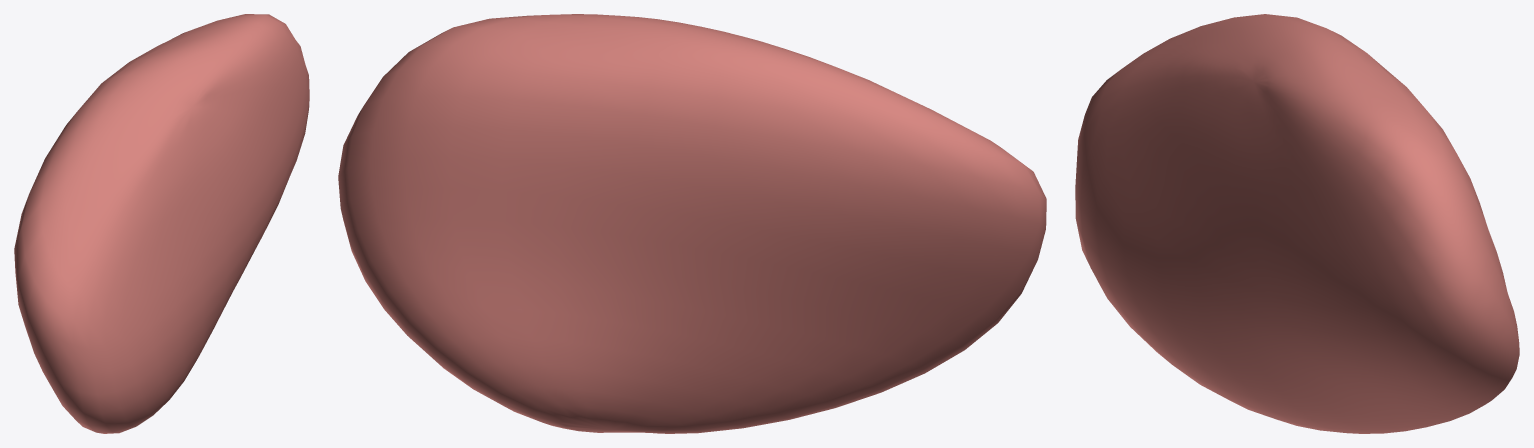
The picture shows the model from 3 angles, left to right: view 1: azimuth 30°, elevation 25°; view 2: azimuth 150°, elevation 25°; view 3: azimuth 270°, elevation 25°; orthographic projection. The views are drawn at different scales.
Parts seen in each view (by area): view 1: ZA_c828ceb58e5fa388; view 2: ZA_c828ceb58e5fa388; view 3: ZA_c828ceb58e5fa388.
Part boxes in pixels (x1,y1,x2,y2): ZA_c828ceb58e5fa388: (14,14,309,433); ZA_c828ceb58e5fa388: (338,14,1046,433); ZA_c828ceb58e5fa388: (1075,14,1519,433).
Size of the model in its own units: 0.0108 by 0.00795 by 0.00826.
